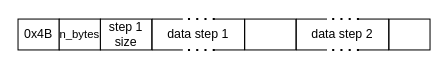
Some shapes in this 448 by 69 pixel diagram are drawn without their labels. Each missing label, with the centre of its shape:
"0xB4" goes at pixel 409 34.
"step 2 size" goes at pixel 270 34.
